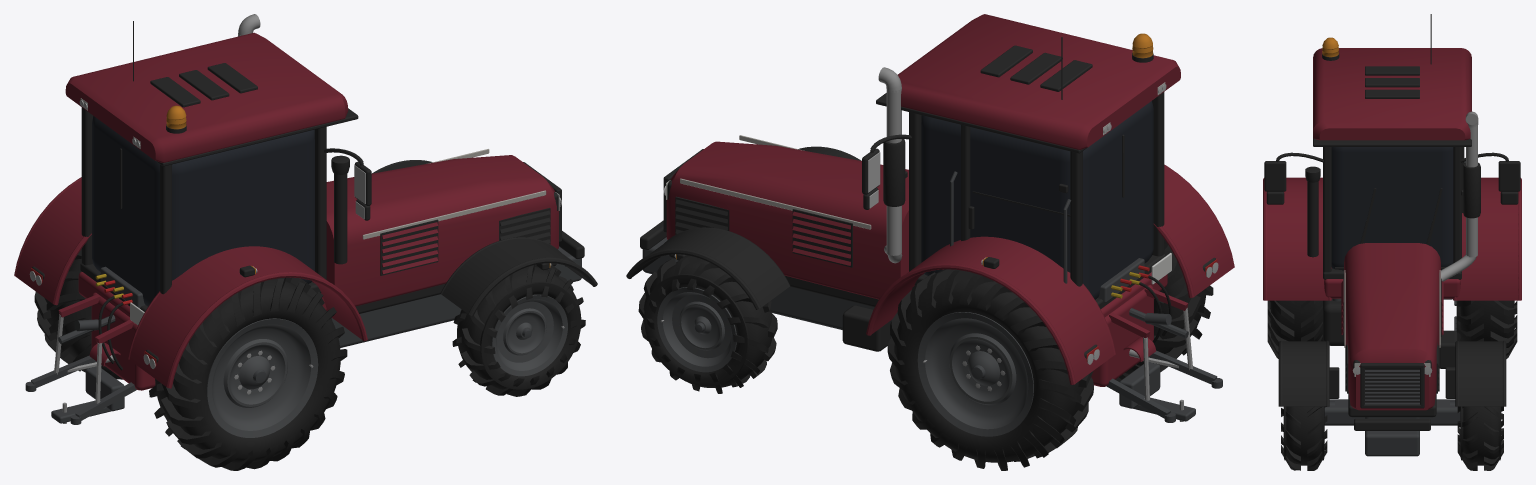
File: SM_Prop_farm_tractor_utility_1.glb
The picture shows the model from 3 angles, left to right: view 1: azimuth 30°, elevation 25°; view 2: azimuth 150°, elevation 25°; view 3: azimuth 270°, elevation 25°; orthographic projection. The views are drawn at different scales.
Visible parts, largest first — view 1: SM_Prop_farm_tractor_utility_1; view 2: SM_Prop_farm_tractor_utility_1; view 3: SM_Prop_farm_tractor_utility_1.
Boxes of the visible parts, left/top/right/bottom form: SM_Prop_farm_tractor_utility_1: left=14, top=14, right=597, bottom=470; SM_Prop_farm_tractor_utility_1: left=626, top=14, right=1234, bottom=470; SM_Prop_farm_tractor_utility_1: left=1263, top=14, right=1521, bottom=470.
Size of the model in its own units: 4.52 by 3.25 by 2.34.
